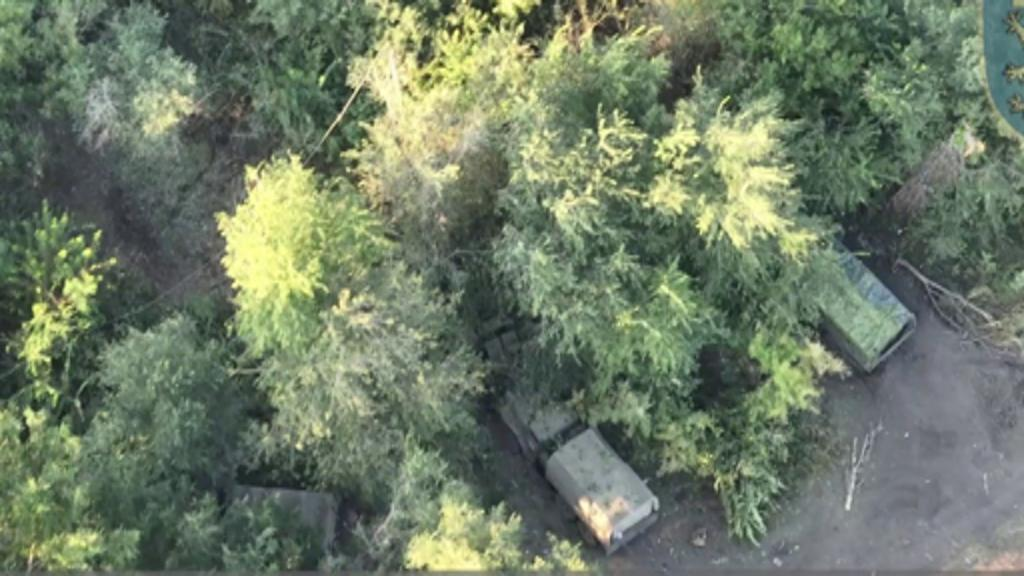TRUCK: (494, 374, 660, 551), (788, 220, 918, 379)
